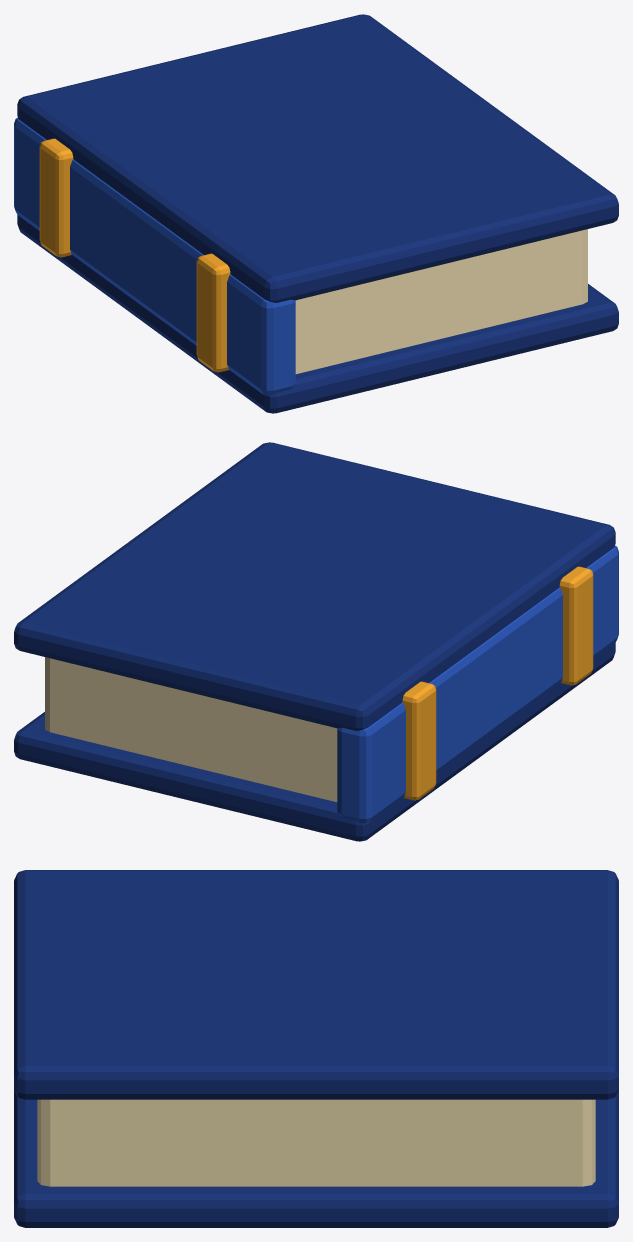
The model's file is kit_book.glb.
The picture shows the model from 3 angles, top to bottom: view 1: azimuth 30°, elevation 25°; view 2: azimuth 150°, elevation 25°; view 3: azimuth 270°, elevation 25°; orthographic projection. The views are drawn at different scales.
Parts seen in each view (by area): view 1: Blue leather cover.001, Book pages, Book spine, Blue leather cover, Gold book clasp, Gold book clasp.001; view 2: Blue leather cover.001, Book pages, Book spine, Blue leather cover, Gold book clasp.001, Gold book clasp; view 3: Blue leather cover.001, Book pages, Blue leather cover.
Boxes of the visible parts, bbox=[...] form: Blue leather cover.001: bbox=[17, 14, 618, 302]; Book pages: bbox=[295, 229, 587, 374]; Book spine: bbox=[14, 117, 295, 395]; Blue leather cover: bbox=[17, 215, 618, 413]; Gold book clasp: bbox=[196, 253, 230, 372]; Gold book clasp.001: bbox=[39, 138, 73, 257]; Blue leather cover.001: bbox=[14, 442, 615, 730]; Book pages: bbox=[45, 657, 337, 802]; Book spine: bbox=[337, 545, 618, 823]; Blue leather cover: bbox=[14, 643, 615, 841]; Gold book clasp.001: bbox=[402, 681, 436, 800]; Gold book clasp: bbox=[559, 566, 593, 685]; Blue leather cover.001: bbox=[14, 870, 618, 1099]; Book pages: bbox=[37, 1099, 595, 1186]; Blue leather cover: bbox=[14, 1090, 618, 1227].
Size of the model in its own units: 0.271 by 0.096 by 0.325.
